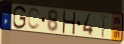4: (82, 13, 95, 37)
8: (46, 9, 59, 34)
C: (27, 7, 42, 32)
G: (13, 5, 28, 31)
H: (61, 10, 77, 36)
T: (99, 13, 110, 38)
